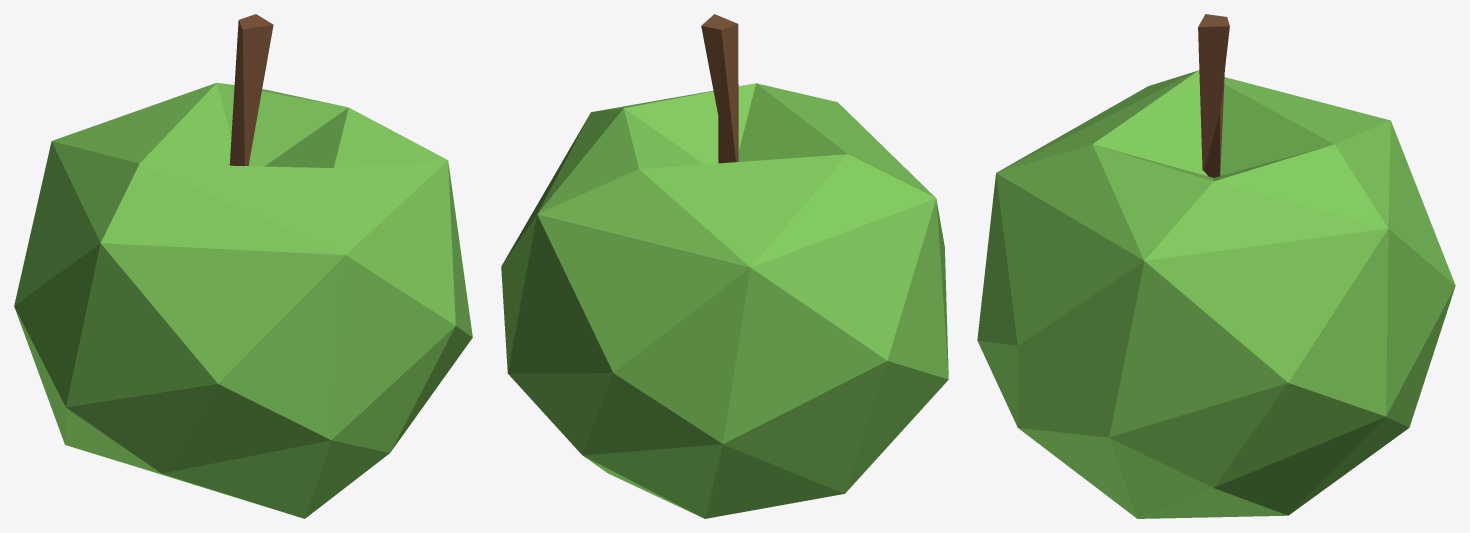
File: Apple.fbx
3 views of the same model, side by side, from view 1: azimuth 30°, elevation 25°; view 2: azimuth 150°, elevation 25°; view 3: azimuth 270°, elevation 25° (orthographic). The views are drawn at different scales.
Parts seen in each view (by area): view 1: Apple; view 2: Apple; view 3: Apple.
Part boxes in pixels (left/top/right/bottom): Apple: left=14, top=14, right=472, bottom=518; Apple: left=501, top=14, right=948, bottom=518; Apple: left=977, top=14, right=1455, bottom=518.
Size of the model in its own units: 18.94 by 22.01 by 19.45.
